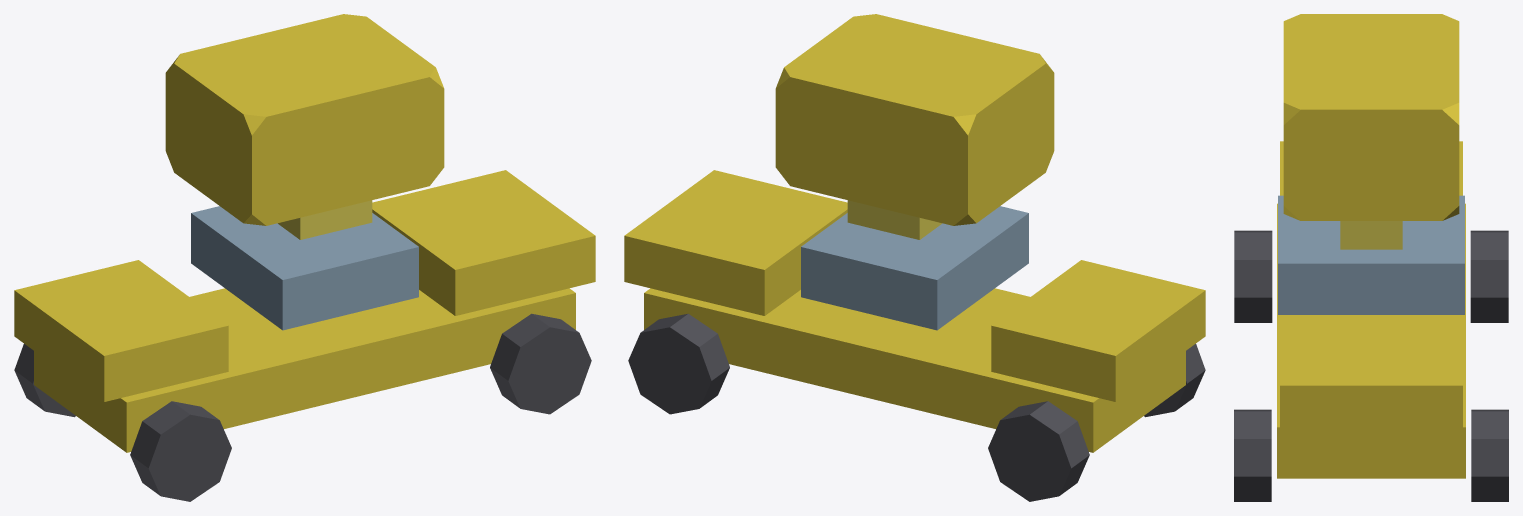
The picture shows the model from 3 angles, left to right: view 1: azimuth 30°, elevation 25°; view 2: azimuth 150°, elevation 25°; view 3: azimuth 270°, elevation 25°; orthographic projection. The views are drawn at different scales.
Parts seen in each view (by area): view 1: part3, part0, part2, part1, part4, part7, part9, part5, part8; view 2: part3, part0, part2, part1, part4, part6, part8, part5, part9; view 3: part3, part1, part4, part0, part8, part9, part6, part7, part5, part2.
Part boxes in pixels (x1,y1,x2,y2): part3: (165, 14, 444, 225); part0: (34, 288, 575, 452); part2: (14, 260, 228, 401); part1: (372, 170, 595, 315); part4: (191, 206, 418, 330); part7: (490, 313, 591, 414); part9: (130, 401, 231, 501); part5: (278, 200, 372, 239); part8: (14, 344, 75, 417); part3: (775, 14, 1054, 225); part0: (644, 288, 1185, 452); part2: (991, 260, 1205, 401); part1: (624, 170, 847, 315); part4: (801, 206, 1028, 330); part6: (628, 313, 729, 414); part8: (988, 401, 1089, 501); part5: (847, 200, 941, 239); part9: (1144, 344, 1205, 417); part3: (1283, 14, 1459, 220); part1: (1280, 315, 1462, 432); part4: (1278, 195, 1464, 314); part0: (1277, 203, 1465, 478); part8: (1470, 230, 1508, 322); part9: (1234, 230, 1272, 322); part6: (1471, 409, 1508, 501); part7: (1234, 409, 1271, 501); part5: (1340, 221, 1402, 249); part2: (1280, 141, 1462, 195).
Bounding box in the file's own units: 6.13 × 4.09 × 2.91.
